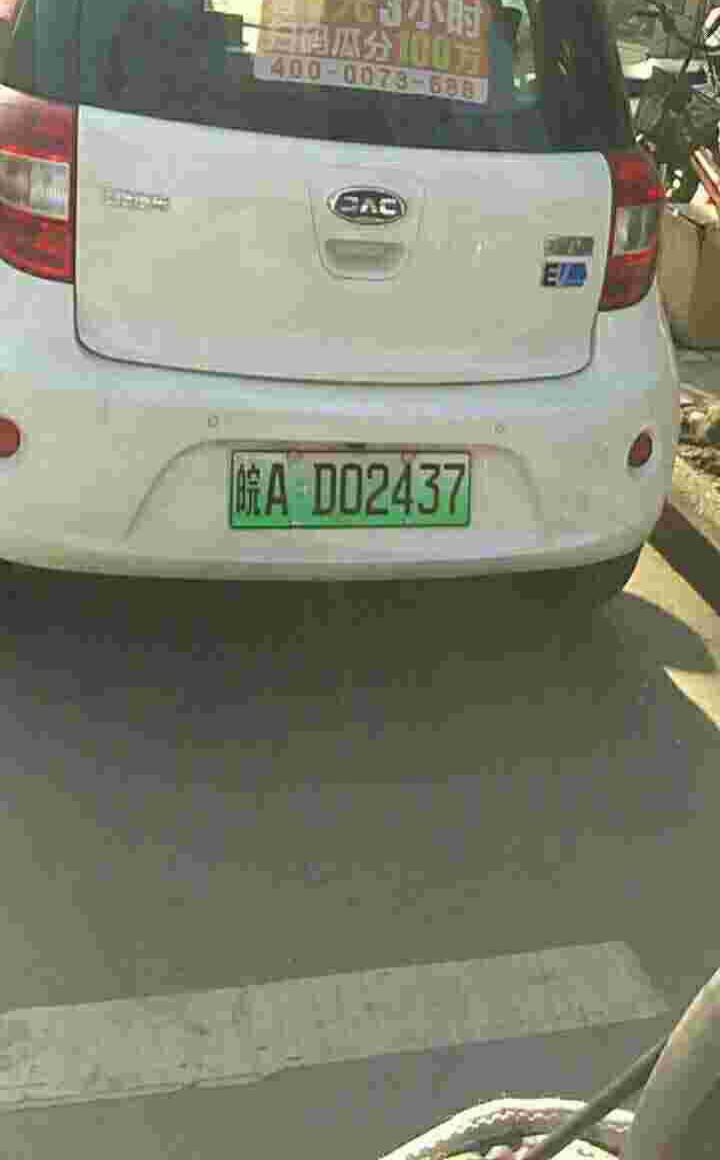car: (218, 446, 480, 529)
